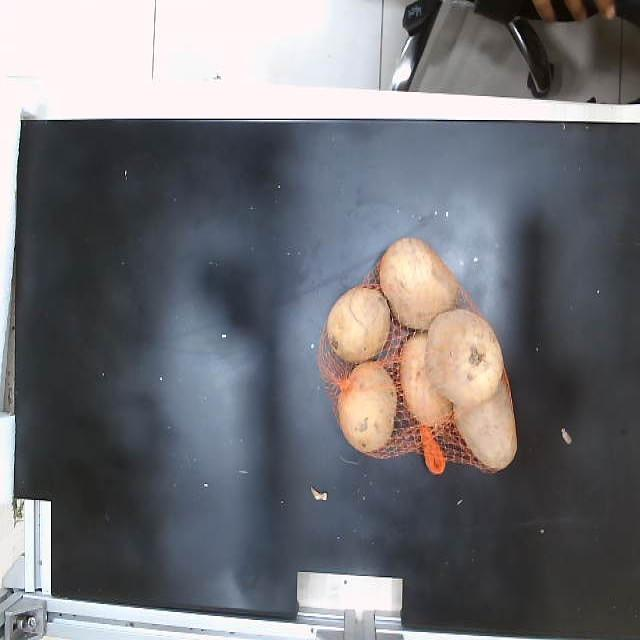potato: (426, 313, 504, 408), (380, 238, 459, 329), (454, 370, 518, 470), (338, 362, 398, 452), (326, 287, 390, 362), (401, 333, 452, 427)
